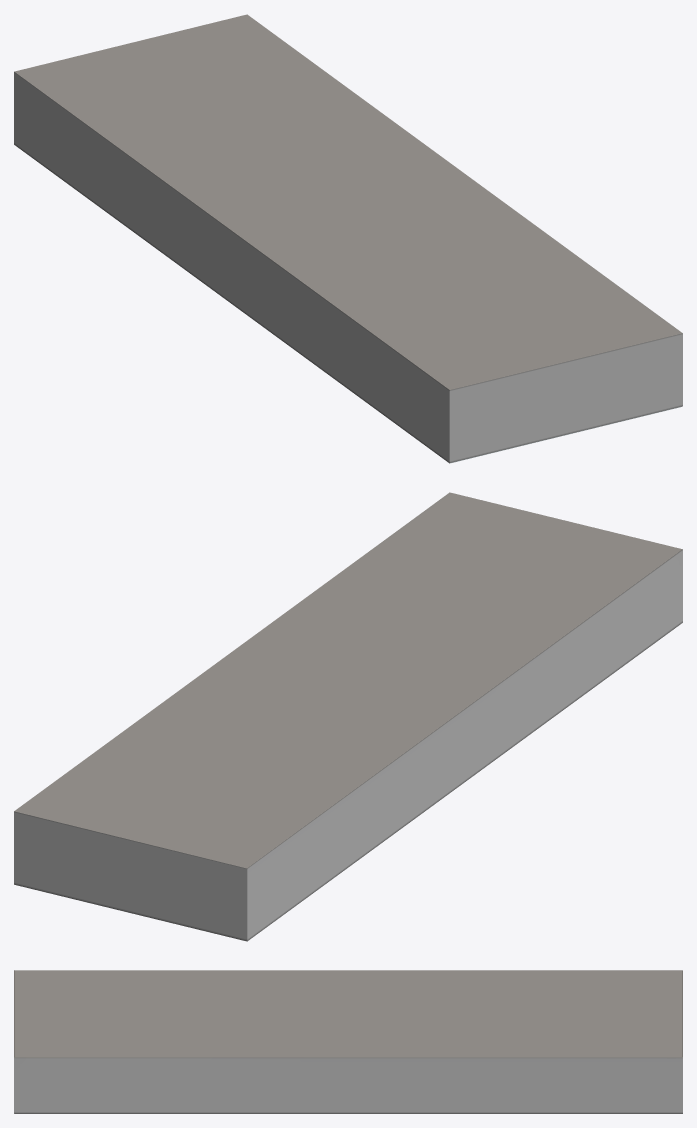
The model's file is Shop_ceiling_type1.FBX.
3 views of the same model, one above another, from view 1: azimuth 30°, elevation 25°; view 2: azimuth 150°, elevation 25°; view 3: azimuth 270°, elevation 25° (orthographic). The views are drawn at different scales.
Parts seen in each view (by area): view 1: Shop_ceiling_type1_004; view 2: Shop_ceiling_type1_004; view 3: Shop_ceiling_type1_004.
Part boxes in pixels (<box>): Shop_ceiling_type1_004: <box>14,14,682,463</box>; Shop_ceiling_type1_004: <box>14,492,682,941</box>; Shop_ceiling_type1_004: <box>14,970,682,1113</box>.
Size of the model in its own units: 1218 by 383 by 3941.
1 material, 1 textured.
